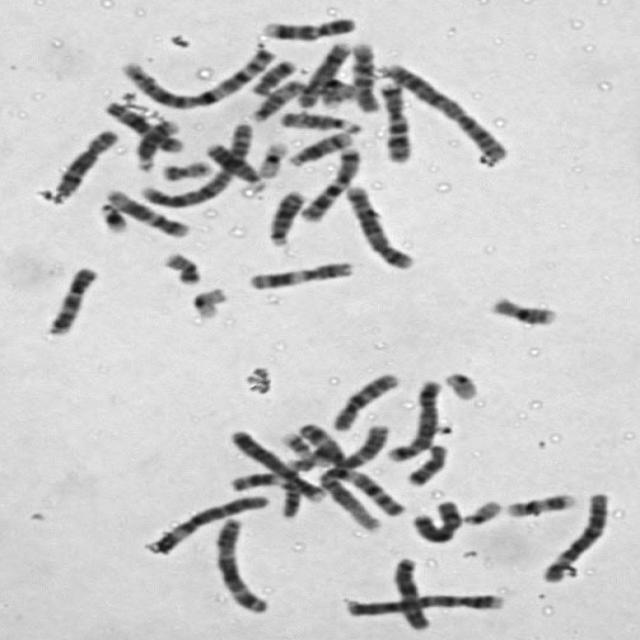A1: (116, 43, 280, 110), (315, 462, 406, 532)
A2: (374, 58, 512, 164), (132, 116, 256, 209)
A3: (209, 513, 272, 615), (290, 419, 393, 470)
B4: (224, 426, 328, 503), (338, 588, 508, 619)
B5: (340, 180, 417, 271), (383, 374, 444, 464)
C10: (326, 368, 403, 432), (346, 37, 383, 114)
C11: (228, 468, 312, 521), (242, 257, 358, 291)
C12: (98, 183, 192, 240), (97, 96, 187, 154)
C6: (140, 489, 272, 556), (537, 486, 613, 584)
C7: (295, 142, 364, 223), (370, 77, 414, 164)
C8: (48, 125, 121, 199), (294, 38, 354, 109)
C9: (42, 262, 101, 337), (257, 11, 360, 41)
D13: (201, 138, 270, 190), (264, 185, 310, 247)
D14: (131, 115, 182, 172), (285, 127, 356, 167)
D15: (244, 77, 308, 123), (276, 106, 365, 135)
E16: (482, 291, 561, 328), (310, 76, 364, 110)
E17: (502, 488, 580, 518), (276, 428, 318, 474)
E18: (401, 440, 452, 487), (247, 55, 300, 97)
F19: (186, 283, 230, 320), (252, 137, 290, 179)
F20: (159, 248, 204, 286), (157, 155, 215, 183)
G21: (93, 198, 131, 234), (303, 442, 336, 467)
G22: (438, 367, 482, 402), (457, 495, 505, 526)
X: (387, 552, 434, 632), (406, 495, 464, 544)
